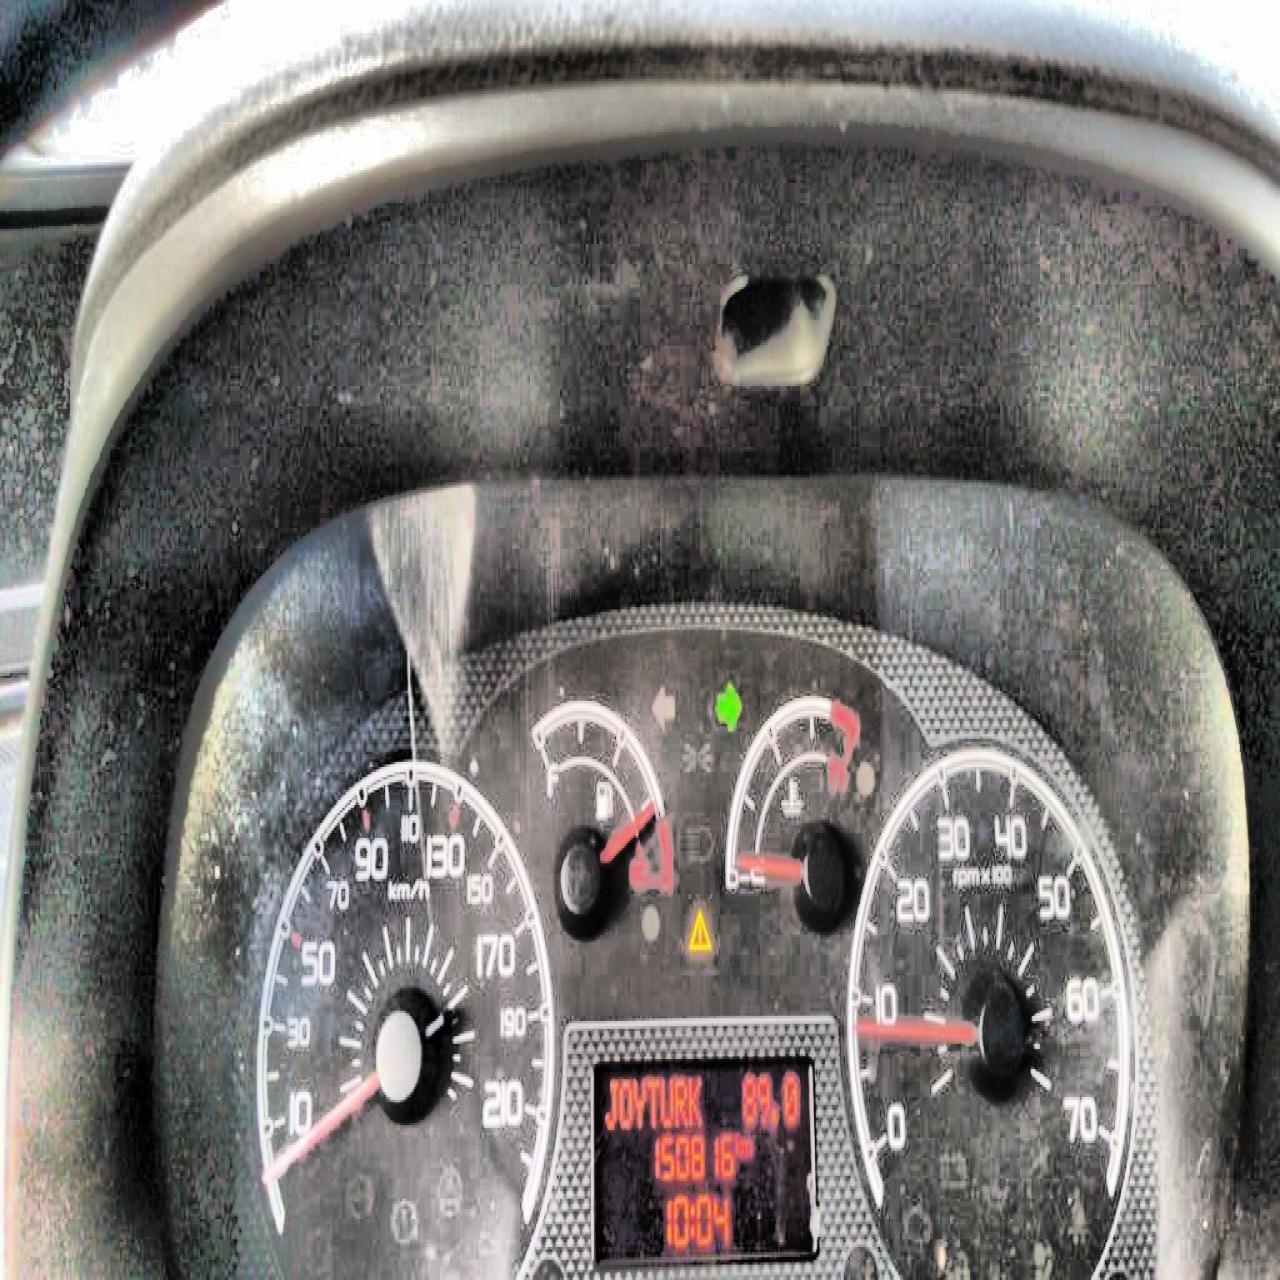-: (770, 1102, 778, 1125)
0: (695, 1189, 710, 1247), (673, 1191, 688, 1247), (782, 1071, 798, 1123), (674, 1132, 688, 1178)
1: (662, 1193, 673, 1245), (710, 1132, 719, 1178), (652, 1132, 659, 1178)
4: (712, 1193, 729, 1245)
5: (660, 1132, 674, 1178)
6: (719, 1130, 734, 1179)
8: (740, 1071, 755, 1125), (689, 1132, 704, 1178)
9: (756, 1071, 770, 1125)
X: (659, 1071, 674, 1125), (618, 1074, 633, 1128), (604, 1074, 618, 1130), (645, 1074, 659, 1128), (687, 1071, 701, 1125), (633, 1074, 645, 1130), (674, 1074, 686, 1128), (741, 1132, 751, 1156), (688, 1201, 694, 1237), (734, 1128, 740, 1156)
odometer: (587, 1043, 817, 1272)
